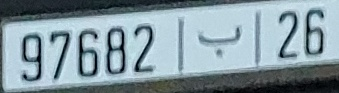2: (277, 10, 299, 60), (134, 24, 155, 73)
6: (77, 28, 99, 77), (305, 8, 325, 56)
7: (50, 29, 72, 81)
8: (106, 26, 127, 75)
9: (21, 31, 43, 81)
waw: (197, 25, 243, 58)
